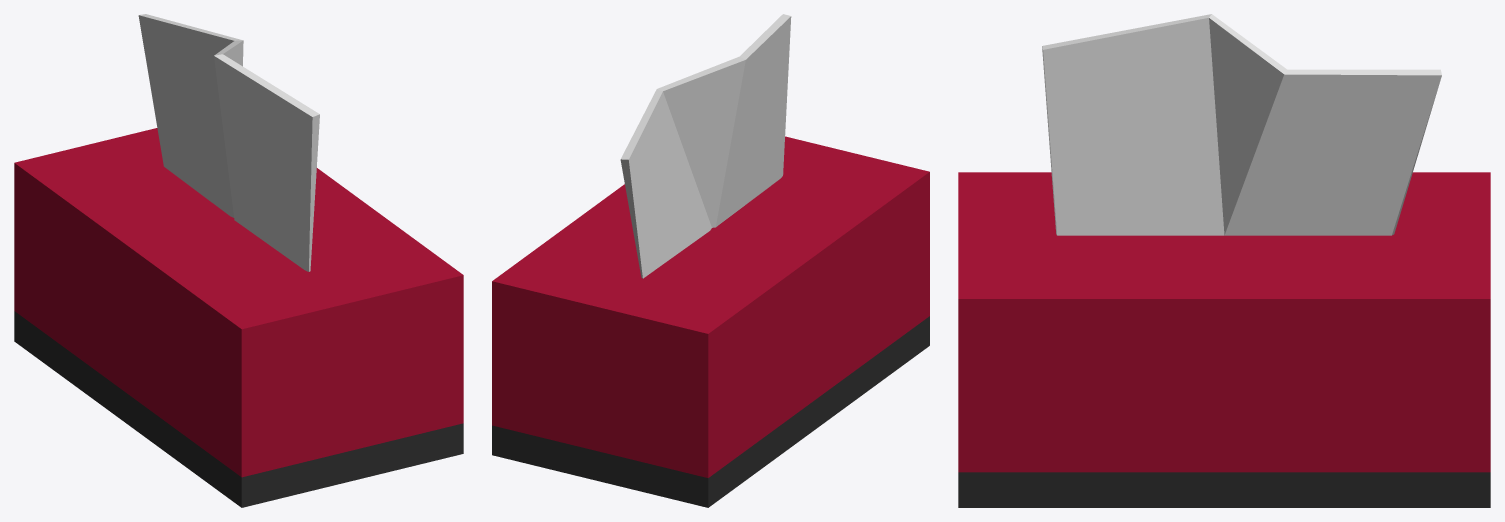
Rendered from paper-box.fbx.
3 views of the same model, side by side, from view 1: azimuth 30°, elevation 25°; view 2: azimuth 150°, elevation 25°; view 3: azimuth 270°, elevation 25° (orthographic). The views are drawn at different scales.
Parts seen in each view (by area): view 1: Cube.005; view 2: Cube.005; view 3: Cube.005.
Boxes of the visible parts, x1,y1,x2,y2 form: Cube.005: (14, 14, 463, 507); Cube.005: (492, 14, 929, 507); Cube.005: (958, 14, 1490, 507).
Bounding box in the file's own units: 0.2759 × 0.4203 × 0.49.
